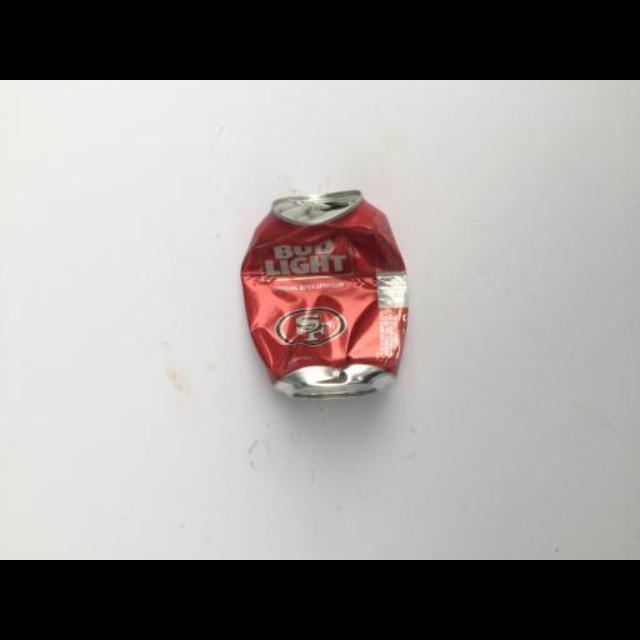lata: (239, 190, 411, 400)
